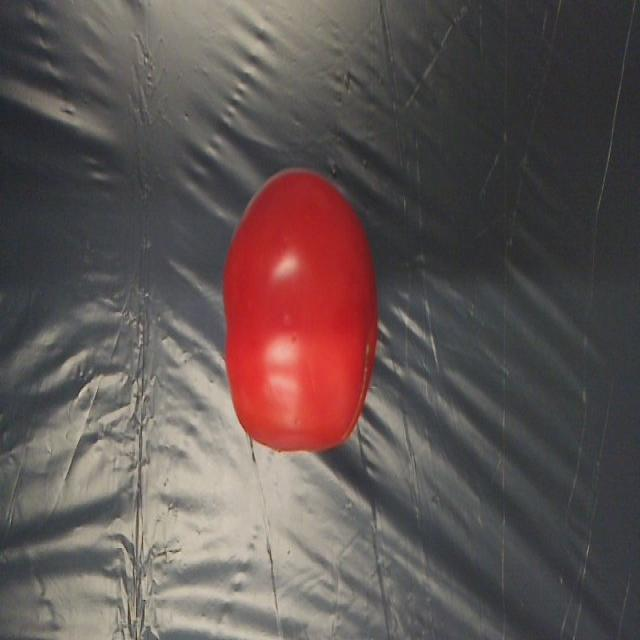kirmizi: (221, 177, 383, 463)
